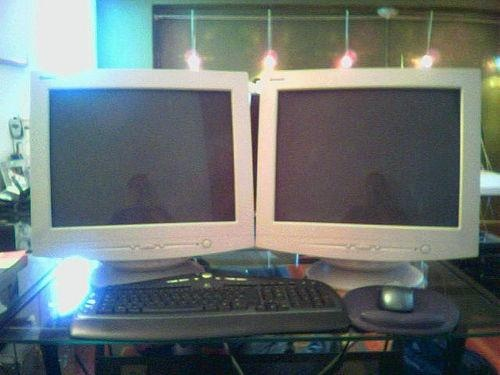tvmonitor: (258, 70, 481, 288), (29, 70, 256, 283)
